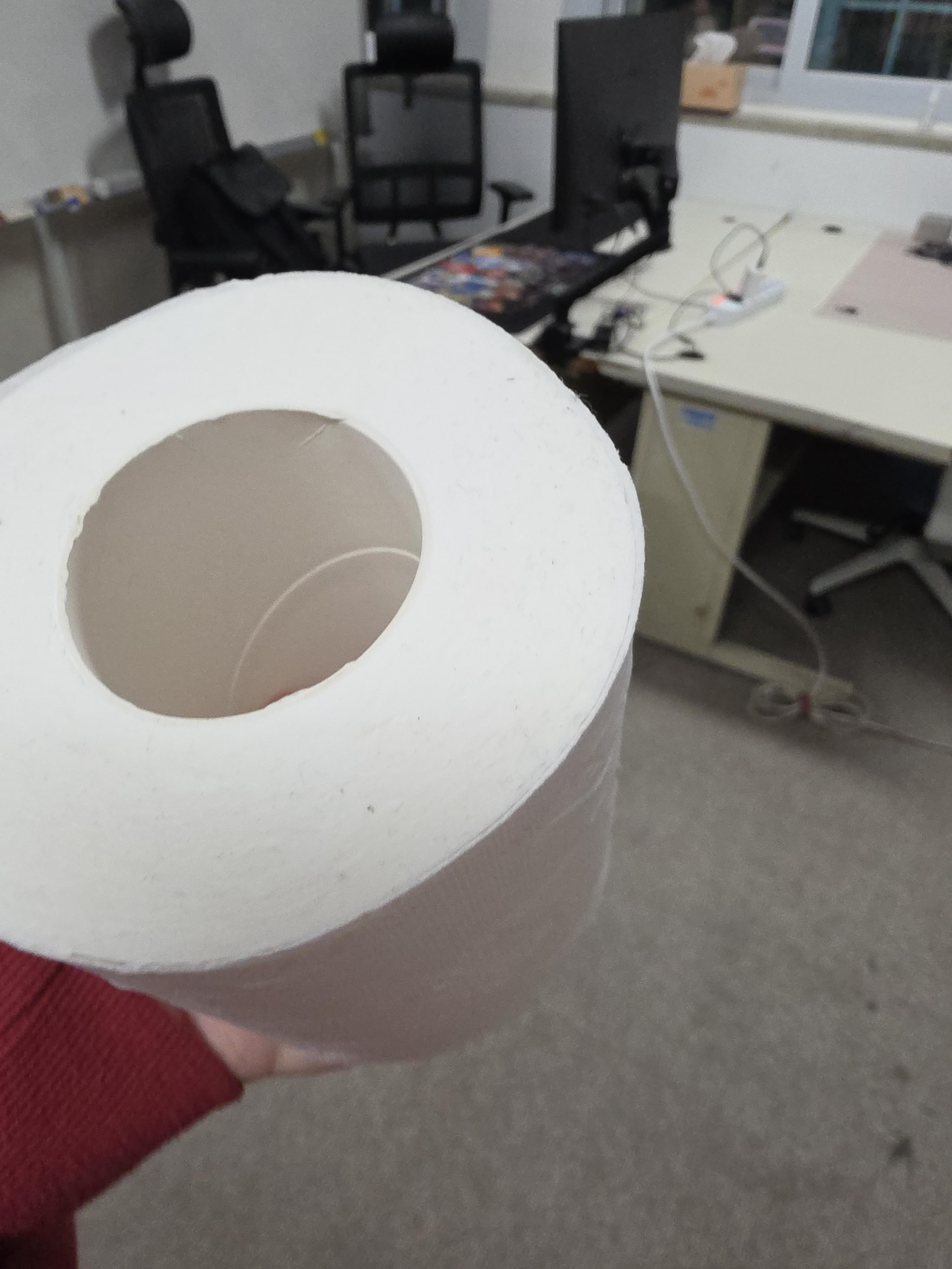tissue: (0, 271, 645, 1066), (680, 30, 746, 113)
